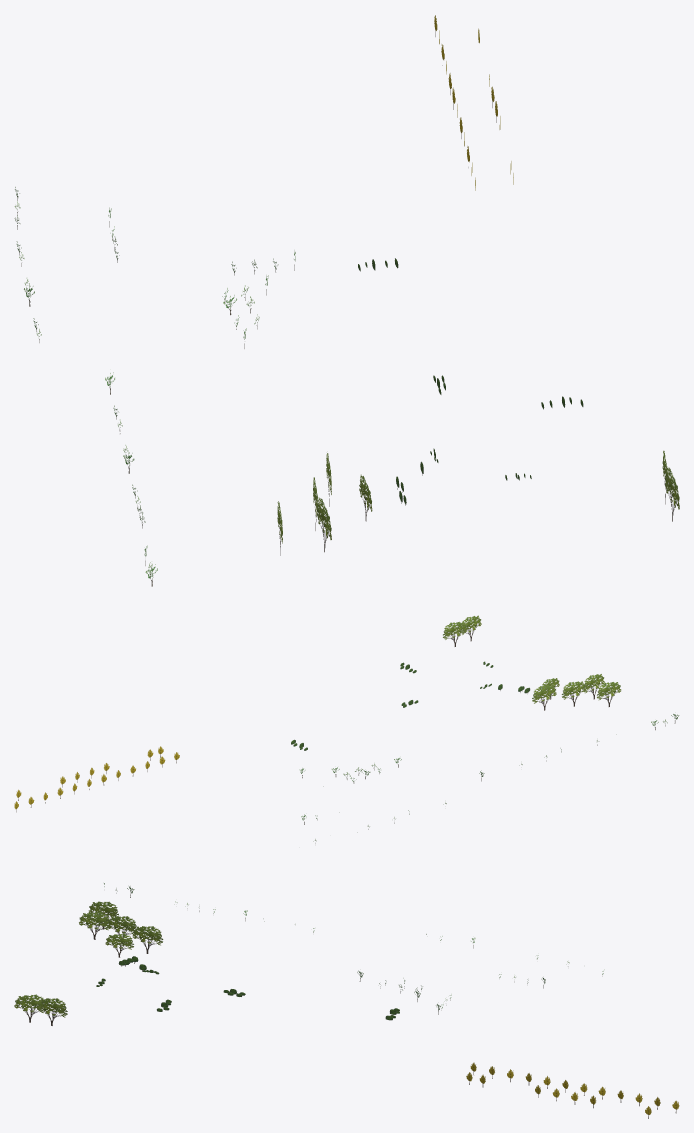
File: OfficialBusanStation_SiteTrees.fbx
3 views of the same model, one above another, from view 1: azimuth 30°, elevation 25°; view 2: azimuth 150°, elevation 25°; view 3: azimuth 270°, elevation 25° (orthographic). The views are drawn at different scales.
Visible parts, largest first — view 1: OfficialStation_나무_0; view 2: OfficialStation_나무_0; view 3: OfficialStation_나무_0.
Boxes of the visible parts, bbox=[...] form: OfficialStation_나무_0: bbox=[14, 15, 679, 586]; OfficialStation_나무_0: bbox=[14, 615, 679, 843]; OfficialStation_나무_0: bbox=[14, 883, 679, 1118].
Size of the model in its own units: 21482 by 1283 by 26469.
Materials: 11 (11 with a texture image).
